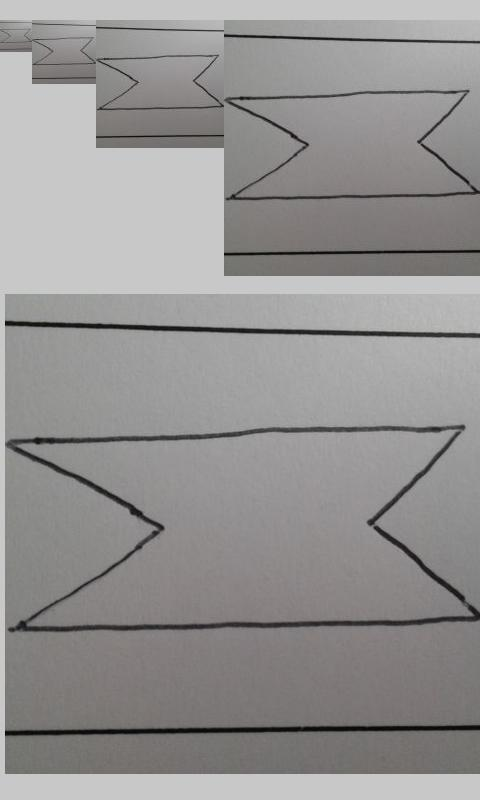edit_text: (12, 425, 479, 633), (225, 88, 478, 200), (97, 54, 223, 111), (32, 36, 95, 66), (1, 28, 32, 43)
